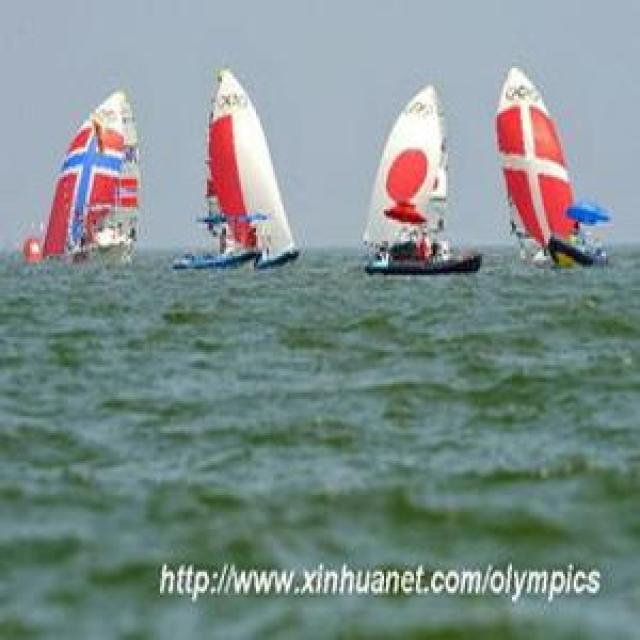sailboat: (357, 74, 482, 280), (178, 67, 300, 270), (496, 58, 612, 270), (35, 82, 152, 276)
